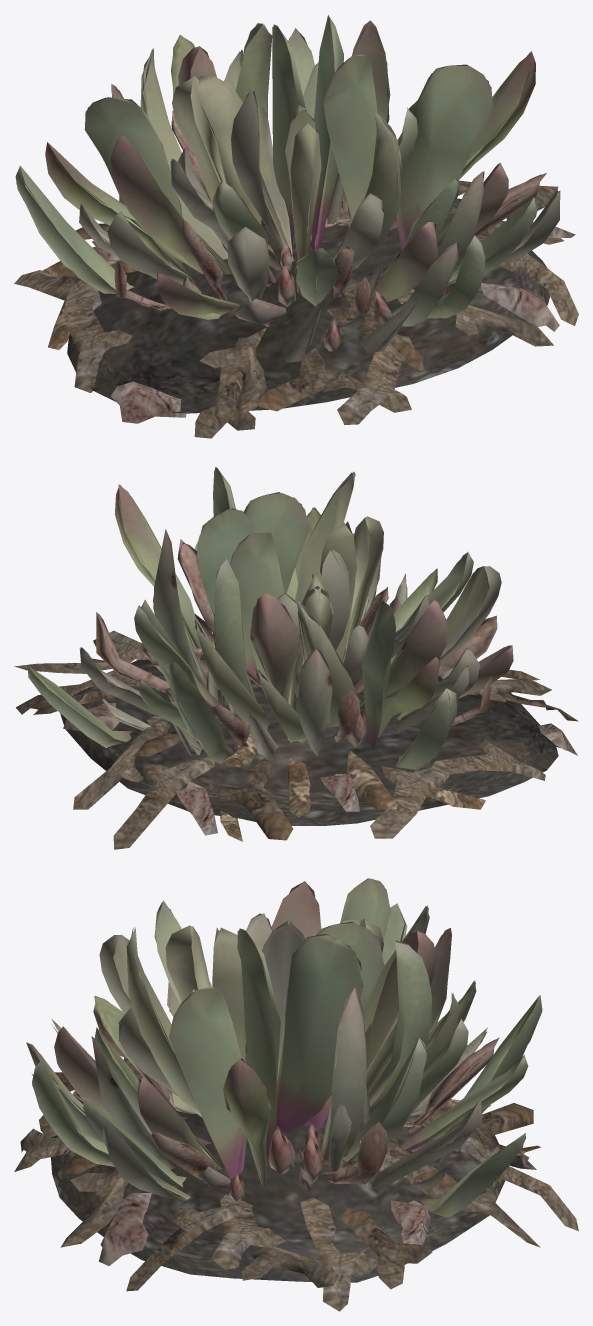
File: cheiridopsis_succulent_a.gltf.lod.glb
3 views of the same model, one above another, from view 1: azimuth 30°, elevation 25°; view 2: azimuth 150°, elevation 25°; view 3: azimuth 270°, elevation 25° (orthographic). The views are drawn at different scales.
Visible parts, largest first — view 1: cheiridopsis_succulent_f_LOD0; view 2: cheiridopsis_succulent_f_LOD0; view 3: cheiridopsis_succulent_f_LOD0.
Part boxes in pixels (x1,y1,x2,y2): cheiridopsis_succulent_f_LOD0: [14, 15, 578, 438]; cheiridopsis_succulent_f_LOD0: [14, 467, 578, 849]; cheiridopsis_succulent_f_LOD0: [14, 878, 578, 1311].
Bounding box in the file's own units: 0.4534 × 0.2322 × 0.4017.
1 material, 1 textured.
